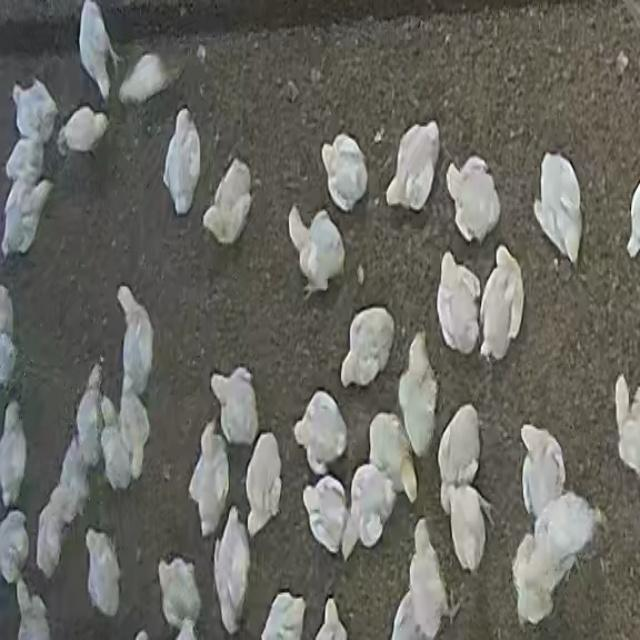chicken: (534, 153, 582, 264), (478, 246, 524, 361), (288, 205, 344, 296), (188, 420, 230, 538), (343, 463, 396, 556), (385, 124, 440, 212), (398, 336, 437, 459), (445, 157, 499, 245), (437, 250, 482, 355), (519, 424, 567, 521), (213, 510, 251, 632), (293, 391, 346, 478), (339, 307, 394, 390), (437, 404, 482, 505), (530, 494, 608, 552), (444, 482, 494, 572), (410, 525, 452, 632), (36, 477, 80, 578), (203, 156, 253, 243), (117, 284, 155, 397), (1, 176, 54, 257), (78, 1, 120, 102), (366, 412, 412, 499), (244, 433, 282, 537), (163, 109, 201, 212), (301, 473, 348, 556), (210, 368, 258, 449), (319, 131, 367, 211), (157, 554, 203, 635), (74, 365, 108, 471), (512, 538, 550, 623), (12, 76, 58, 146), (85, 530, 122, 617), (118, 52, 178, 105), (118, 388, 150, 484), (0, 404, 29, 506), (59, 106, 109, 156), (0, 510, 30, 584), (4, 136, 44, 188)
